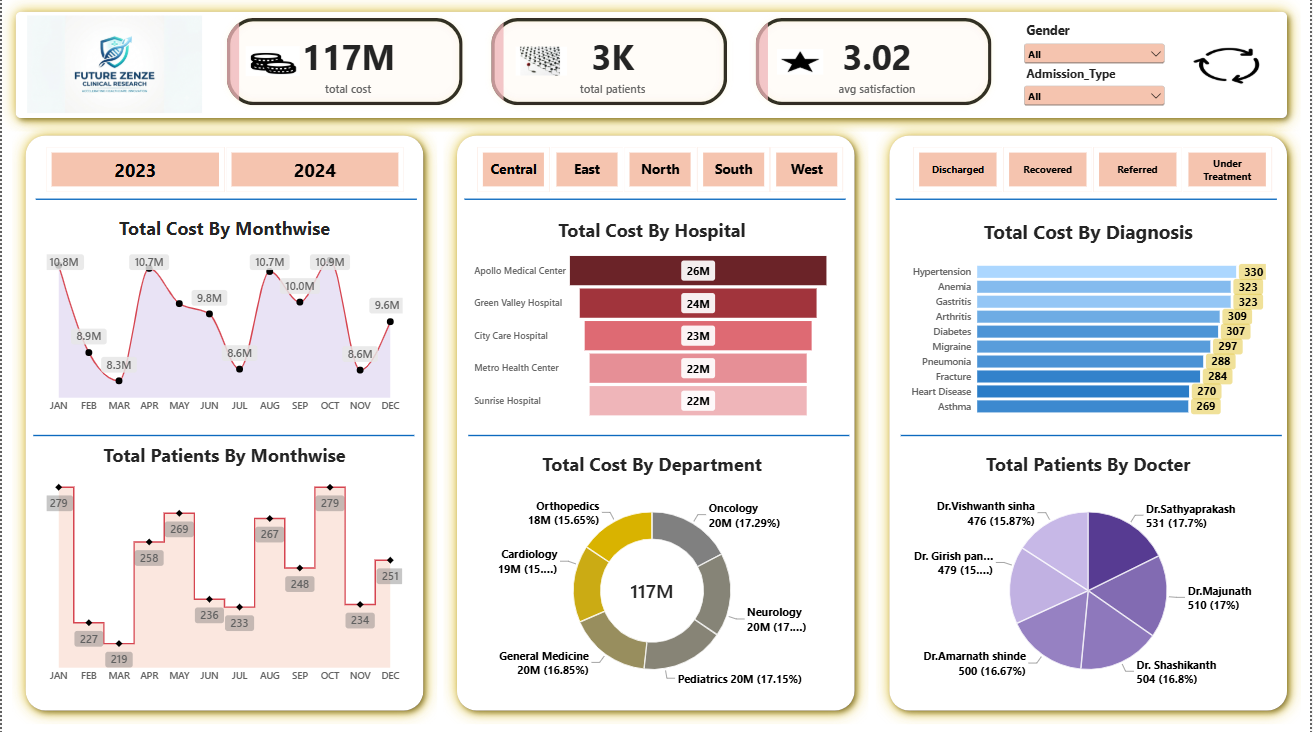

The dashboard page shown, as its layout file describes it:
{"tool":"powerbi","page":{"name":"Page 1","canvas":[1920,1080],"ordinal":0},"visuals":[{"type":"shape","box":[14.7,181.6,623.6,884.1],"z":0},{"type":"shape","box":[1282.1,181.6,623.6,884.1],"z":1000},{"type":"shape","box":[647.5,181.6,623.6,884.1],"z":2000},{"type":"shape","box":[0,0,1905.8,196.3],"z":3000},{"type":"areaChart","title":"Total Cost By Monthwise","fields":{"Category":["main_data.Month"],"Y":["main_data.total cost"]},"box":[49.5,304.5,553.9,324.7],"z":4000},{"type":"areaChart","title":"Total Patients By Monthwise","fields":{"Category":["main_data.Month"],"Y":["main_data.total patients"]},"box":[49.5,638.3,553.9,387],"z":5000},{"type":"clusteredBarChart","title":"Total Cost By Diagnosis","fields":{"Category":["main_data.Diagnosis"],"Y":["main_data.total patients"]},"box":[1317,308.2,553.9,324.7],"z":6000},{"type":"funnel","title":"Total Cost By Hospital","fields":{"Category":["main_data.Hospital"],"Y":["main_data.total cost"]},"box":[676.8,308.2,553.9,324.7],"z":7000},{"type":"pieChart","title":"Total Patients By Docter","fields":{"Category":["main_data.Docter","main_data.Department"],"Y":["main_data.total patients"]},"box":[1317,651.2,553.9,387],"z":8000},{"type":"donutChart","title":"Total Cost By Department","fields":{"Category":["main_data.Department"],"Y":["main_data.total cost"]},"box":[676.8,651.2,553.9,387],"z":9000},{"type":"cardVisual","fields":{"Data":["main_data.total cost","main_data.total patients","main_data.avg satisfaction"]},"box":[299,18.3,1184.9,150.4],"z":10000},{"type":"slicer","fields":{"Values":["main_data.Year"]},"box":[44,216.4,564.9,69.7],"z":11000},{"type":"slicer","fields":{"Values":["main_data.Region"]},"box":[676.8,216.4,576,69.7],"z":12000},{"type":"slicer","fields":{"Values":["main_data.Patient_Status"]},"box":[1317,216.4,564.9,69.7],"z":13000},{"type":"slicer","fields":{"Values":["main_data.Gender"]},"box":[1494.9,34.9,216.4,69.7],"z":14000},{"type":"slicer","fields":{"Values":["main_data.Admission_Type"]},"box":[1494.9,99,216.4,69.7],"z":15000},{"type":"image","box":[1726,31.2,144.9,133.9],"z":16000},{"type":"image","box":[357.7,58.7,78.9,67.9],"z":17000},{"type":"image","box":[1137.2,53.2,67.9,80.7],"z":18000},{"type":"image","box":[753.9,64.2,75.2,56.9],"z":19000},{"type":"image","box":[31.2,25.7,267.8,143.1],"z":20000},{"type":"shape","box":[45.9,632.8,559.4,18.3],"z":21000},{"type":"shape","box":[1318.8,632.8,559.4,18.3],"z":22000},{"type":"shape","box":[684.2,632.8,559.4,18.3],"z":23000},{"type":"shape","box":[49.5,286.1,559.4,18.3],"z":24000},{"type":"shape","box":[678.7,286.1,559.4,18.3],"z":24001},{"type":"shape","box":[1311.5,286.1,559.4,18.3],"z":24002}]}

Visuals, with their boxes in screenshot pixels (x1, y1, x2, y2), scaled from the page's 1920x1080 canvas onto the 1313x732 screenshot:
shape: box(10, 123, 437, 722)
shape: box(877, 123, 1303, 722)
shape: box(443, 123, 869, 722)
shape: box(0, 0, 1303, 133)
"Total Cost By Monthwise" areaChart: box(34, 206, 413, 426)
"Total Patients By Monthwise" areaChart: box(34, 433, 413, 695)
"Total Cost By Diagnosis" clusteredBarChart: box(901, 209, 1279, 429)
"Total Cost By Hospital" funnel: box(463, 209, 842, 429)
"Total Patients By Docter" pieChart: box(901, 441, 1279, 704)
"Total Cost By Department" donutChart: box(463, 441, 842, 704)
cardVisual - main_data.total cost x main_data.total patients: box(204, 12, 1015, 114)
slicer - main_data.Year: box(30, 147, 416, 194)
slicer - main_data.Region: box(463, 147, 857, 194)
slicer - main_data.Patient_Status: box(901, 147, 1287, 194)
slicer - main_data.Gender: box(1022, 24, 1170, 71)
slicer - main_data.Admission_Type: box(1022, 67, 1170, 114)
image: box(1180, 21, 1279, 112)
image: box(245, 40, 299, 86)
image: box(778, 36, 824, 91)
image: box(516, 44, 567, 82)
image: box(21, 17, 204, 114)
shape: box(31, 429, 414, 441)
shape: box(902, 429, 1284, 441)
shape: box(468, 429, 850, 441)
shape: box(34, 194, 416, 206)
shape: box(464, 194, 847, 206)
shape: box(897, 194, 1279, 206)
